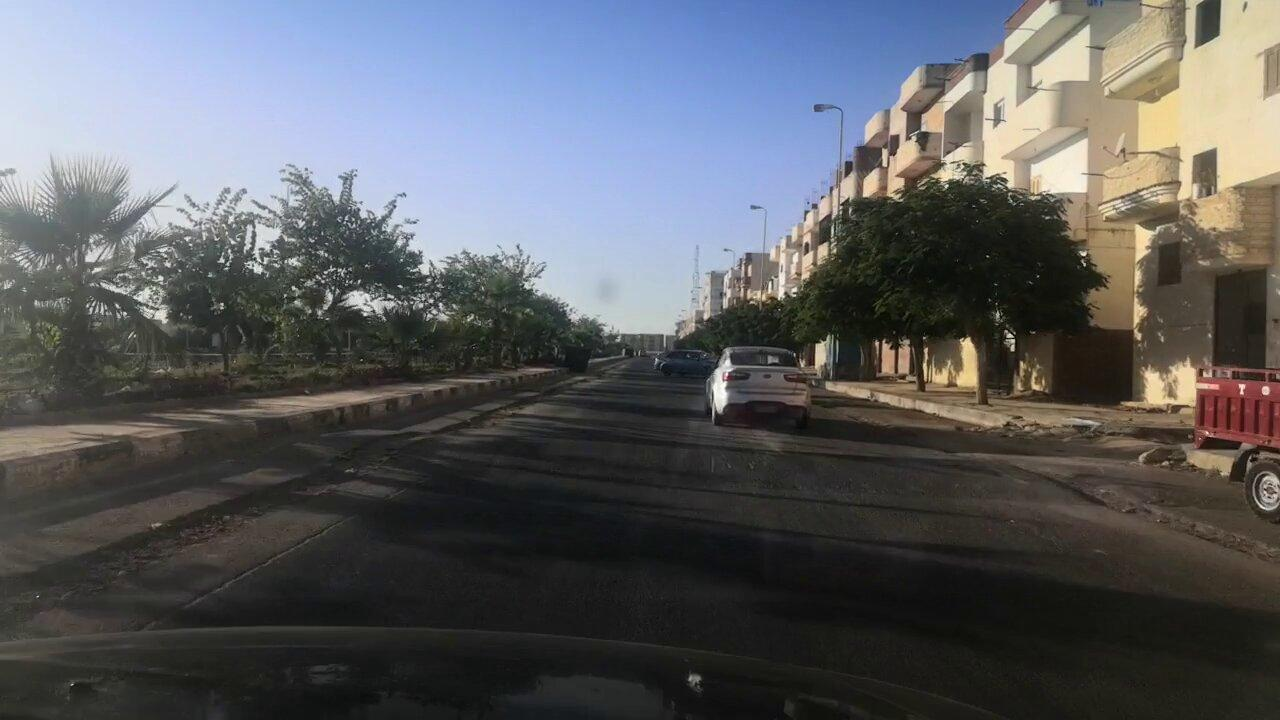Pothole: (10, 435, 400, 638)
